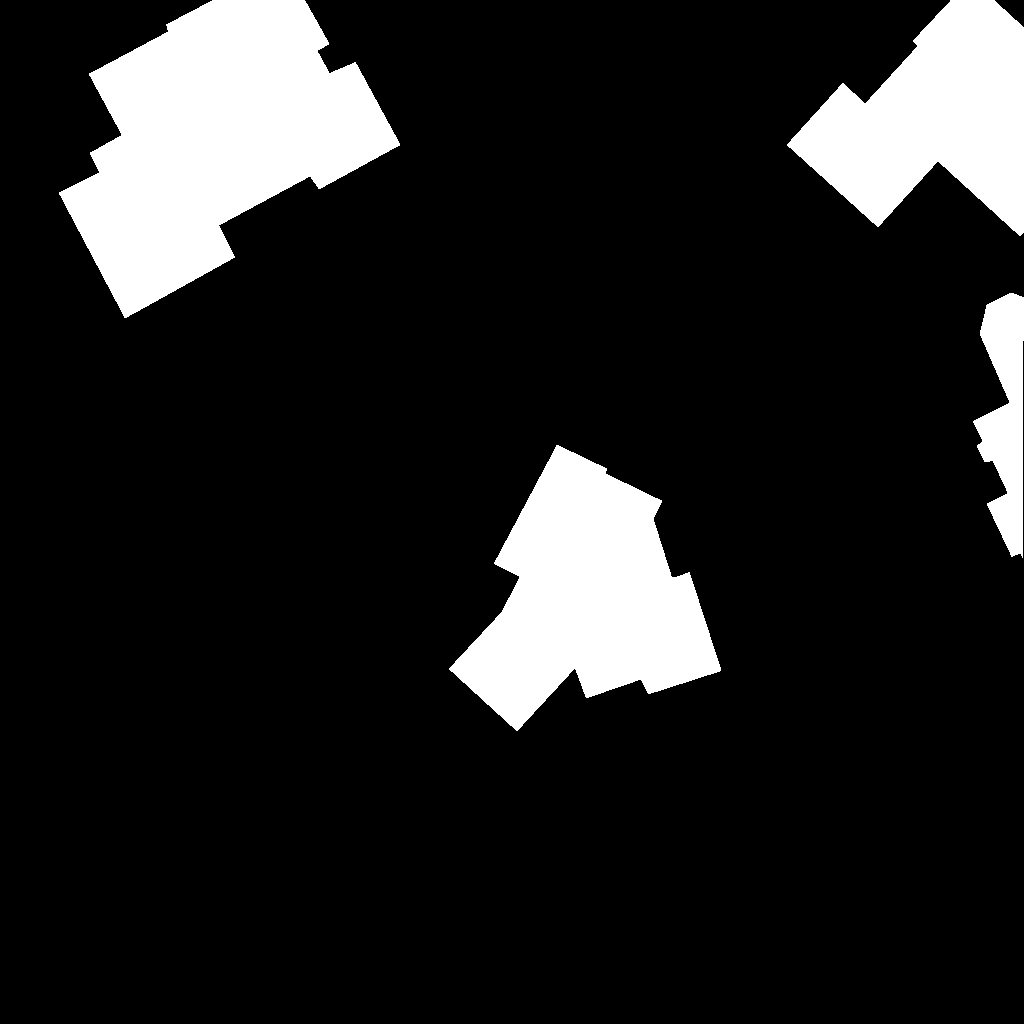building: (59, 0, 401, 319), (449, 445, 722, 732), (787, 0, 1024, 237), (973, 293, 1024, 559)
